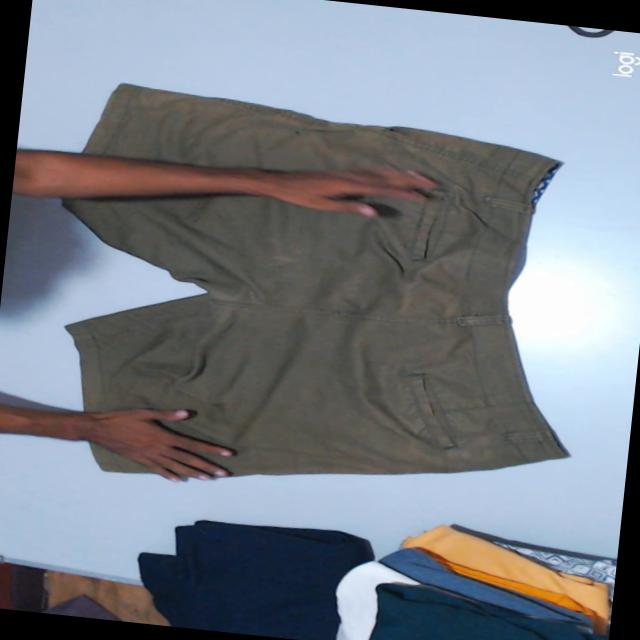new-garment: (62, 83, 566, 475), (87, 440, 180, 474)
